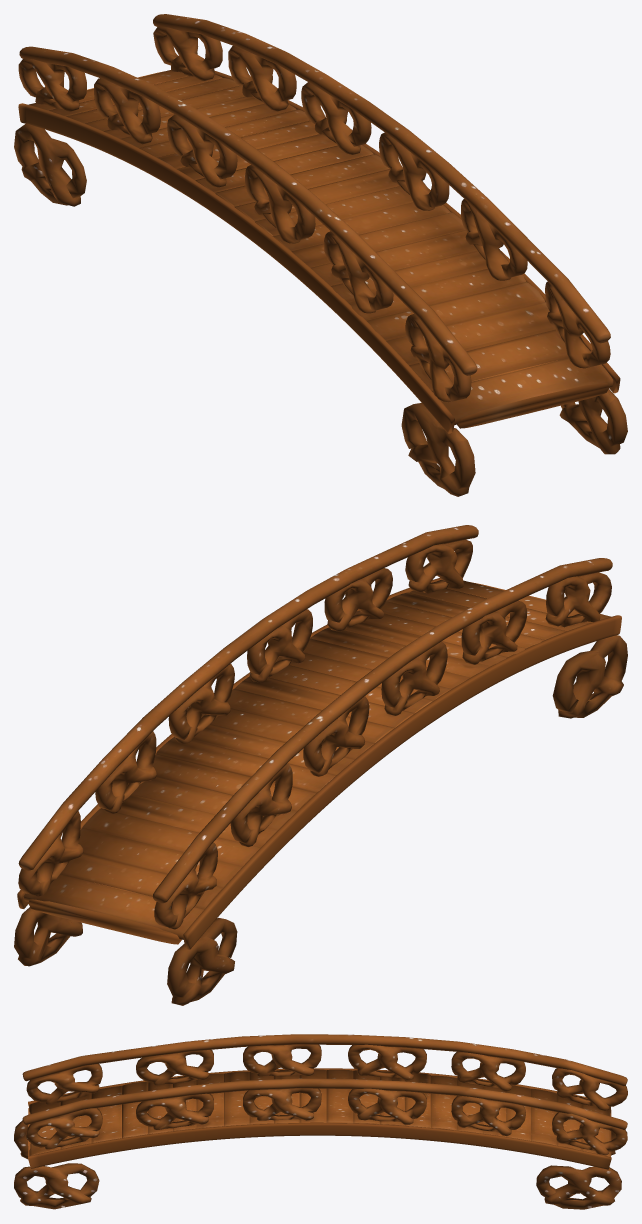
Rendered from pretzel_bridge_v4.glb.
3 renders of one model, top to bottom at view 1: azimuth 30°, elevation 25°; view 2: azimuth 150°, elevation 25°; view 3: azimuth 270°, elevation 25°, orthographic. The views are drawn at different scales.
Visible parts, largest first — view 1: pretzel_bridge; view 2: pretzel_bridge; view 3: pretzel_bridge.
Boxes of the visible parts, x1,y1,x2,y2 form: pretzel_bridge: (14,14,627,496); pretzel_bridge: (14,525,627,1005); pretzel_bridge: (14,1034,627,1209).
Bounding box in the file's own units: 3.54 × 3.65 × 15.86.
1 material, 1 textured.
